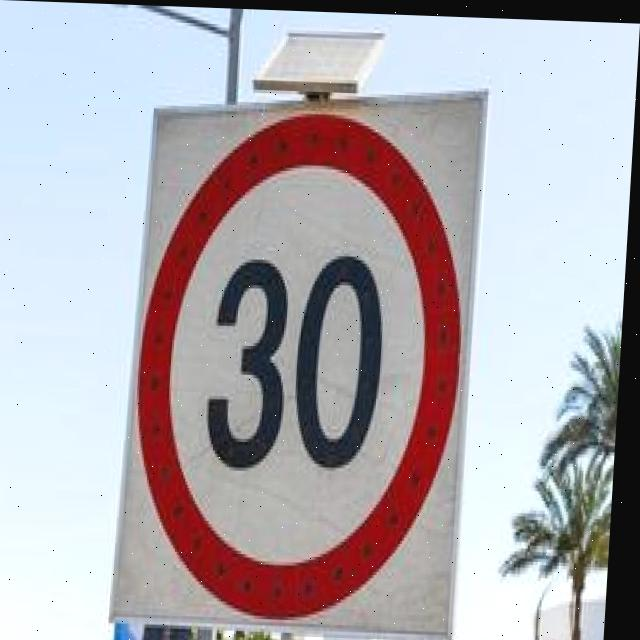Speed limit 30: (122, 92, 485, 630)
